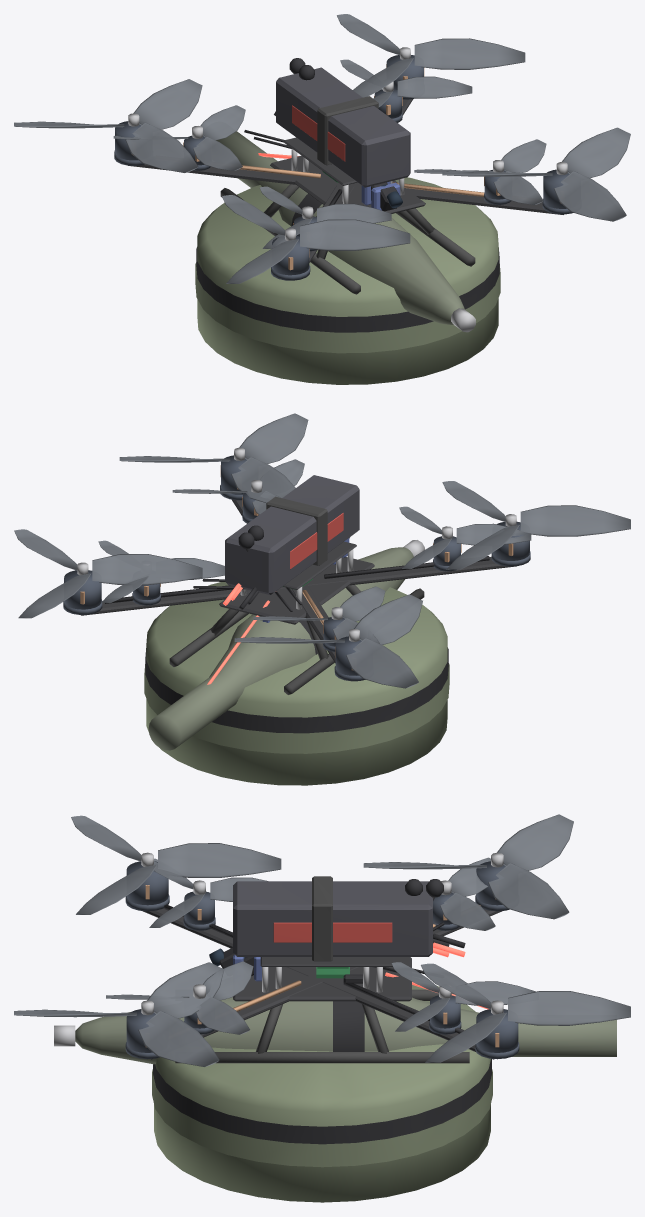
Rendered from fpv.glb.
The picture shows the model from 3 angles, top to bottom: view 1: azimuth 30°, elevation 25°; view 2: azimuth 150°, elevation 25°; view 3: azimuth 270°, elevation 25°; orthographic projection. The views are drawn at different scales.
Parts seen in each view (by area): view 1: FPV10_geo, FPV7_geo, FPV10_prop2_geo, FPV10_prop3_geo, FPV10_prop4_geo, FPV10_prop1_geo, FPV7_prop4_geo, FPV7_prop2_geo, FPV7_prop3_geo, FPV7_prop1_geo; view 2: FPV10_geo, FPV7_geo, FPV10_prop2_geo, FPV10_prop3_geo, FPV10_prop1_geo, FPV10_prop4_geo, FPV7_prop3_geo, FPV7_prop2_geo, FPV7_prop1_geo, FPV7_prop4_geo; view 3: FPV10_geo, FPV7_geo, FPV10_prop2_geo, FPV10_prop1_geo, FPV10_prop3_geo, FPV10_prop4_geo, FPV7_prop4_geo, FPV7_prop1_geo, FPV7_prop2_geo, FPV7_prop3_geo.
Boxes of the visible parts, x1,y1,x2,y2 form: FPV10_geo: [114, 55, 577, 384]; FPV7_geo: [183, 65, 511, 332]; FPV10_prop2_geo: [14, 79, 202, 172]; FPV10_prop3_geo: [222, 195, 410, 283]; FPV10_prop4_geo: [442, 127, 630, 221]; FPV10_prop1_geo: [337, 14, 525, 97]; FPV7_prop4_geo: [414, 139, 546, 204]; FPV7_prop2_geo: [113, 105, 245, 170]; FPV7_prop3_geo: [259, 186, 391, 248]; FPV7_prop1_geo: [340, 59, 472, 107]; FPV10_geo: [63, 455, 530, 785]; FPV7_geo: [132, 493, 461, 750]; FPV10_prop2_geo: [234, 594, 422, 688]; FPV10_prop3_geo: [442, 481, 630, 569]; FPV10_prop1_geo: [14, 529, 202, 618]; FPV10_prop4_geo: [119, 413, 308, 502]; FPV7_prop3_geo: [399, 506, 531, 568]; FPV7_prop2_geo: [253, 586, 385, 643]; FPV7_prop1_geo: [98, 540, 224, 602]; FPV7_prop4_geo: [172, 459, 304, 514]; FPV10_geo: [125, 861, 519, 1202]; FPV7_geo: [54, 879, 616, 1064]; FPV10_prop2_geo: [363, 814, 573, 919]; FPV10_prop1_geo: [421, 963, 630, 1062]; FPV10_prop3_geo: [71, 815, 281, 914]; FPV10_prop4_geo: [14, 962, 224, 1066]; FPV7_prop4_geo: [106, 961, 253, 1034]; FPV7_prop1_geo: [391, 962, 535, 1031]; FPV7_prop2_geo: [440, 857, 495, 930]; FPV7_prop3_geo: [149, 858, 267, 927].
Bounding box in the file's own units: 0.5607 × 0.314 × 0.5863.
